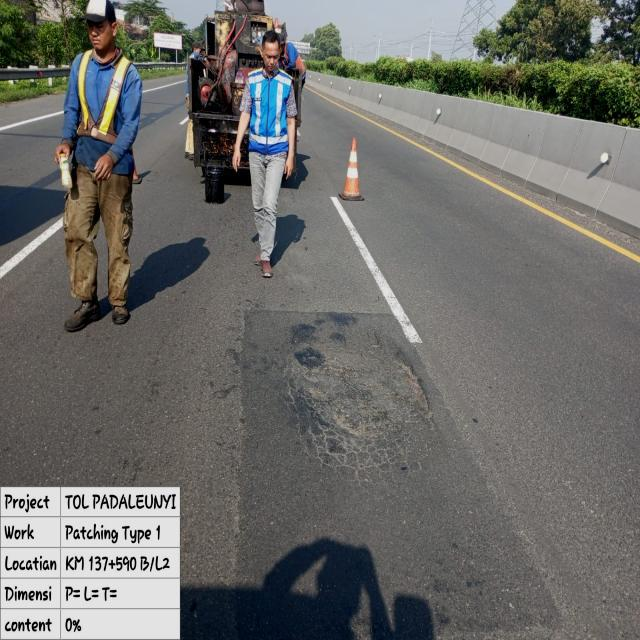Buraco: (279, 314, 448, 448)
